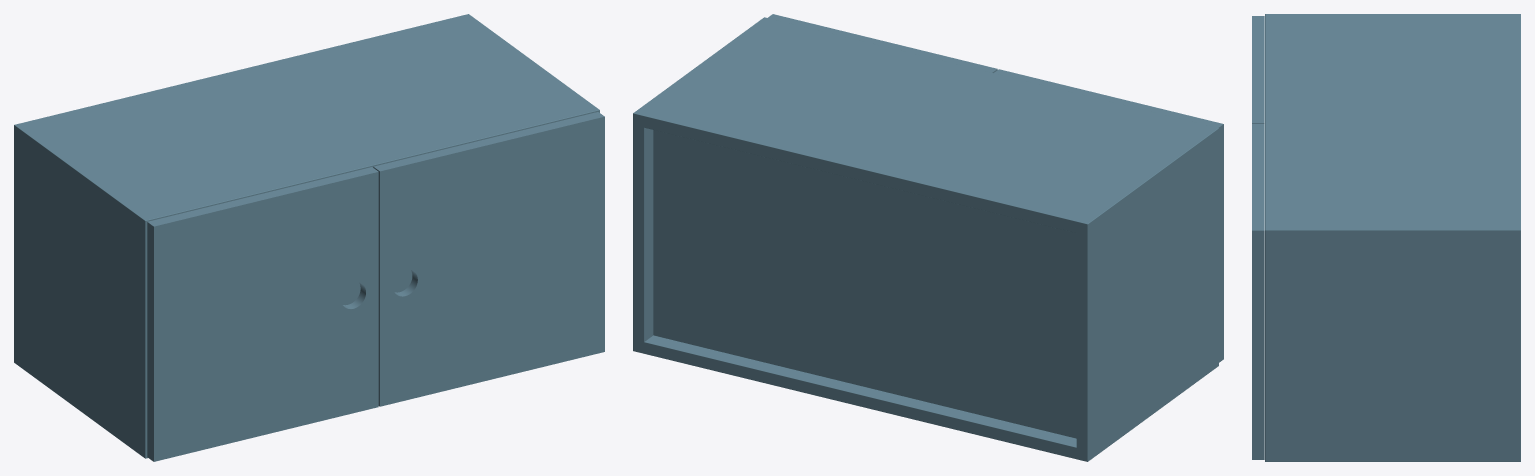
Rendered from MOD-2X1-D-B-AC.glb.
3 views of the same model, side by side, from view 1: azimuth 30°, elevation 25°; view 2: azimuth 150°, elevation 25°; view 3: azimuth 270°, elevation 25° (orthographic). The views are drawn at different scales.
Size of the model in its own units: 720 by 360 by 378.
